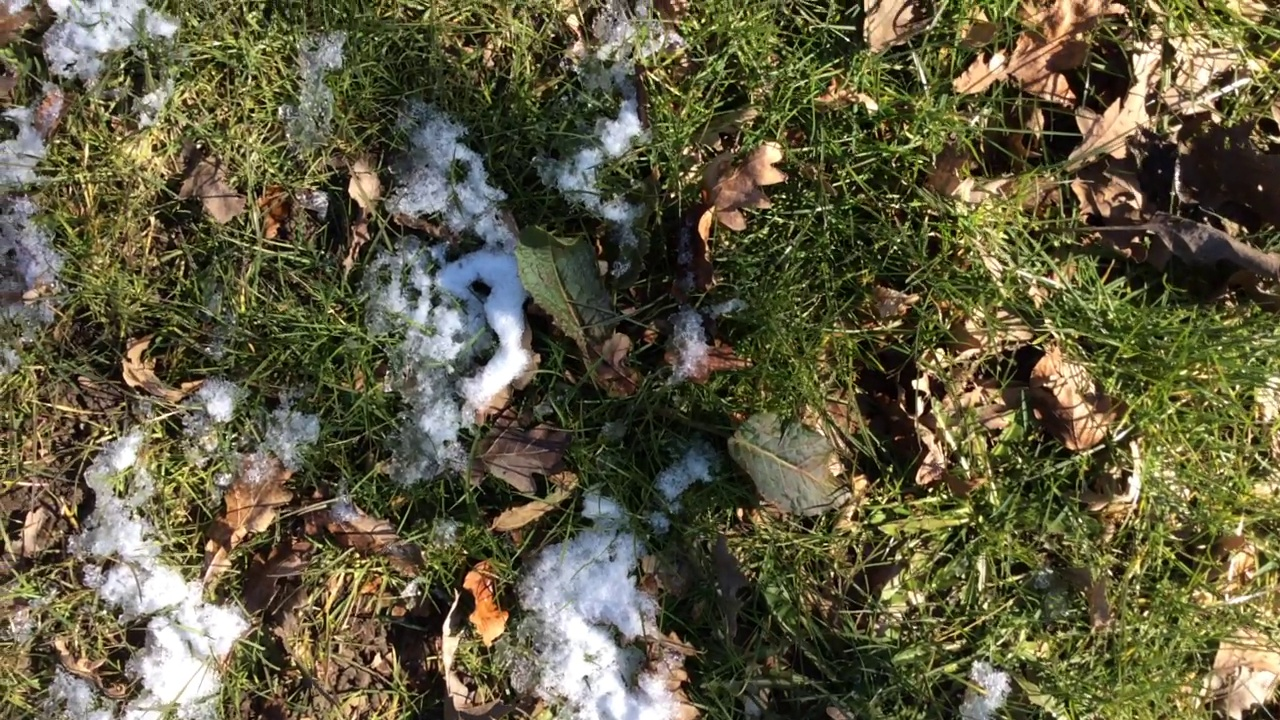root: (625, 375, 710, 438)
rumex: (513, 220, 855, 517)
